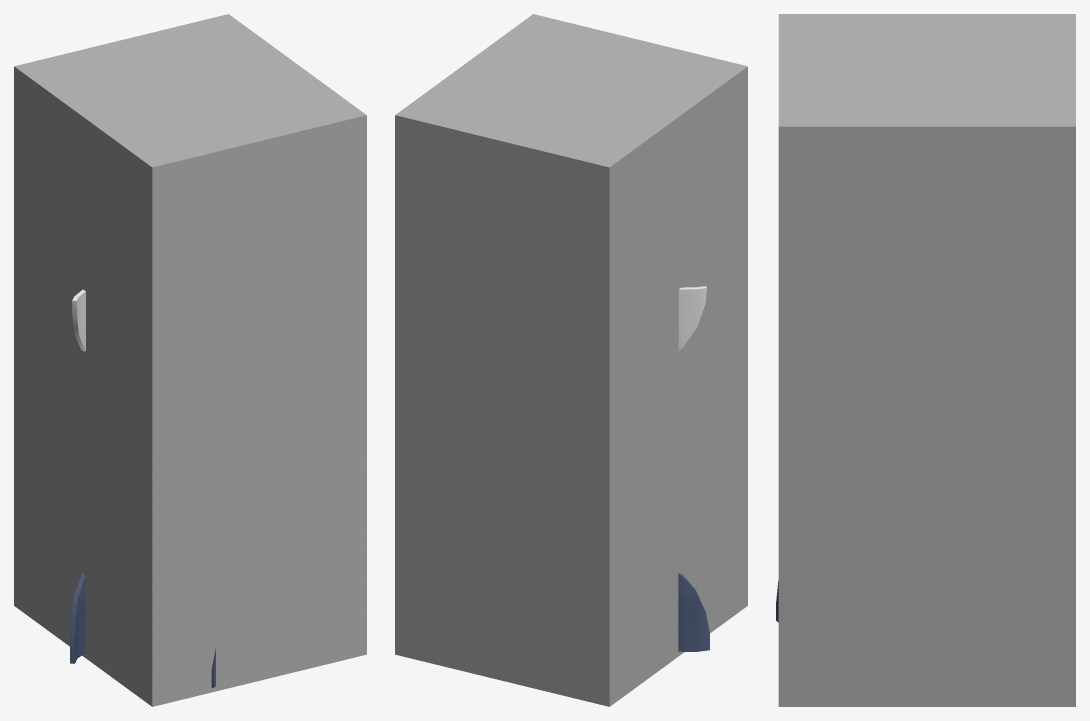
3 views of the same model, side by side, from view 1: azimuth 30°, elevation 25°; view 2: azimuth 150°, elevation 25°; view 3: azimuth 270°, elevation 25° (orthographic). The views are drawn at different scales.
Parts seen in each view (by area): view 1: box, xy_10321; view 2: box, xy_10321; view 3: box.
Part boxes in pixels (x1=…): box: x1=14, y1=14, x2=366, y2=706; xy_10321: x1=70, y1=289, x2=215, y2=687; box: x1=395, y1=14, x2=747, y2=706; xy_10321: x1=678, y1=286, x2=709, y2=651; box: x1=778, y1=14, x2=1075, y2=706.
Bounding box in the file's own units: 0.1378 × 0.3001 × 0.1405.
Materials: 2 (1 with a texture image).
